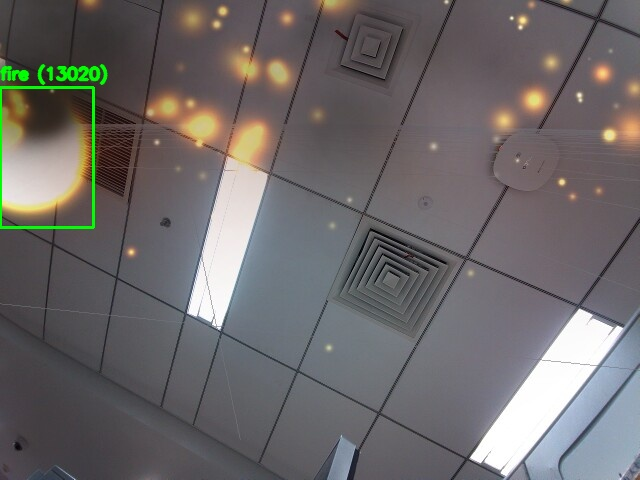fire: (0, 87, 93, 227)
